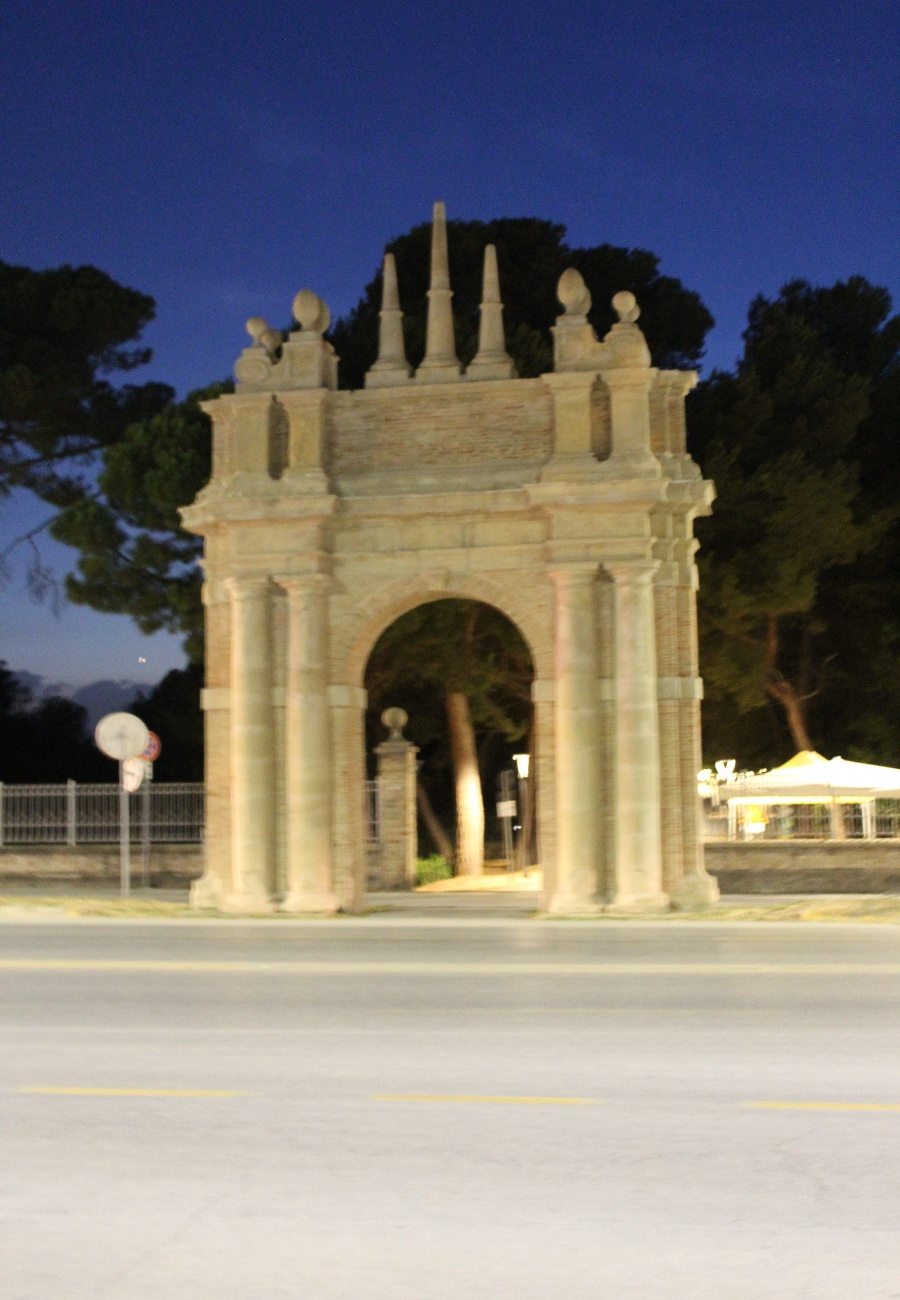Arco di Trionfo: (178, 193, 716, 917)
